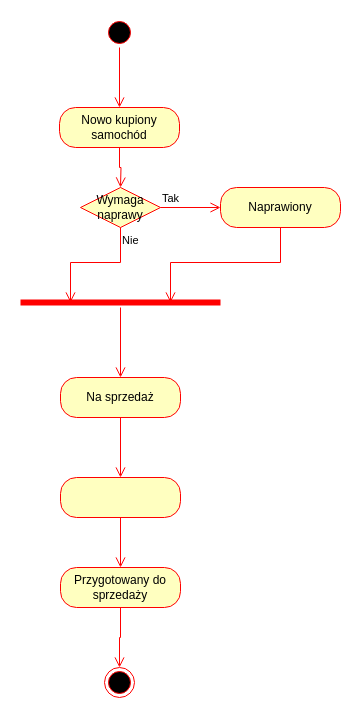
Some shapes in this 358 by 715 pixel diagram are drawn without their labels. The shapes that lost their labels are listed below. From the top down, each one's centre as x and y in pixels, then its label:
At point (120, 497): "Zarezerwowany".
At point (119, 682): "Sprzedany".
